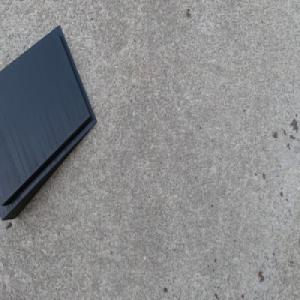PlasticPart: (0, 24, 97, 223)
